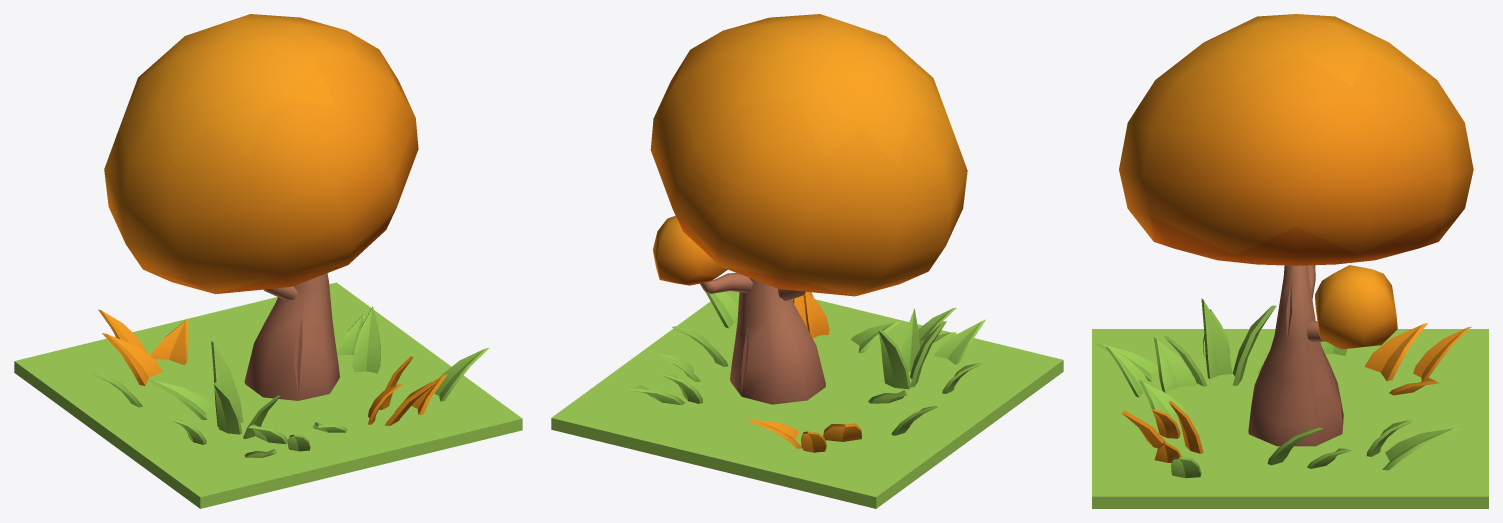
File: maple.glb
The picture shows the model from 3 angles, left to right: view 1: azimuth 30°, elevation 25°; view 2: azimuth 150°, elevation 25°; view 3: azimuth 270°, elevation 25°; orthographic projection. The views are drawn at different scales.
Parts seen in each view (by area): view 1: Maple; view 2: Maple; view 3: Maple.
Part boxes in pixels (left/top/right/bottom): Maple: left=14, top=14, right=522, bottom=508; Maple: left=551, top=14, right=1063, bottom=508; Maple: left=1092, top=14, right=1488, bottom=508.
Bounding box in the file's own units: 0.2972 × 0.3437 × 0.29.
1 material, 1 textured.
